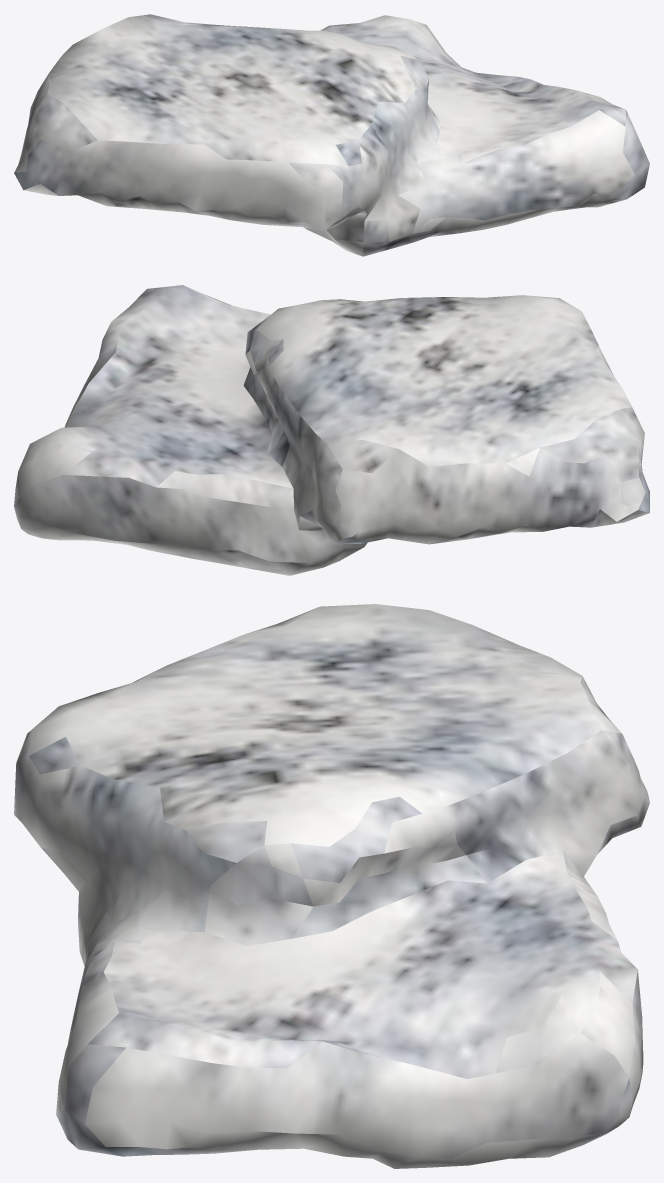
The model's file is plataforma_3.obj.
The picture shows the model from 3 angles, top to bottom: view 1: azimuth 30°, elevation 25°; view 2: azimuth 150°, elevation 25°; view 3: azimuth 270°, elevation 25°; orthographic projection. The views are drawn at different scales.
Visible parts, largest first — view 1: plataforma_3_Stone_C; view 2: plataforma_3_Stone_C; view 3: plataforma_3_Stone_C.
Part boxes in pixels (x1=…): plataforma_3_Stone_C: x1=14, y1=14, x2=649, y2=256; plataforma_3_Stone_C: x1=14, y1=285, x2=649, y2=575; plataforma_3_Stone_C: x1=14, y1=604, x2=649, y2=1168.
Size of the model in its own units: 2.65 by 0.7934 by 1.81.
